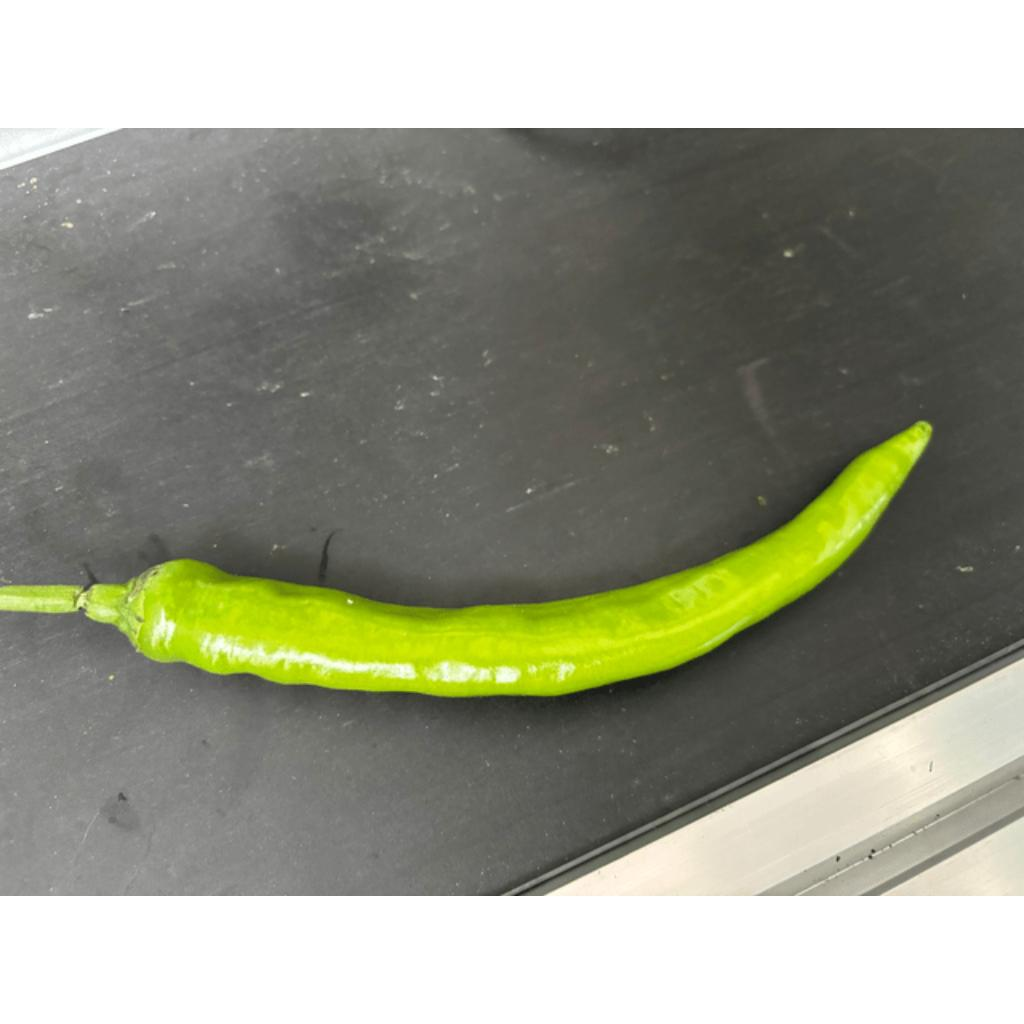chili: (118, 417, 933, 701)
